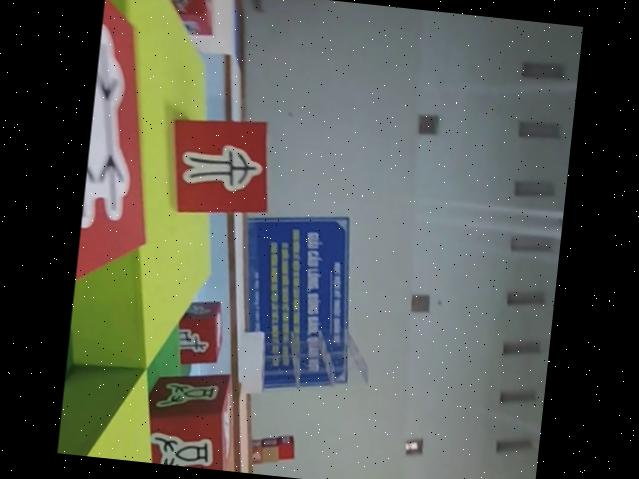R1: (148, 0, 220, 38)
R2 Fake: (162, 110, 278, 223)
R2 Real: (73, 0, 175, 298), (138, 363, 241, 471), (168, 294, 229, 369)
